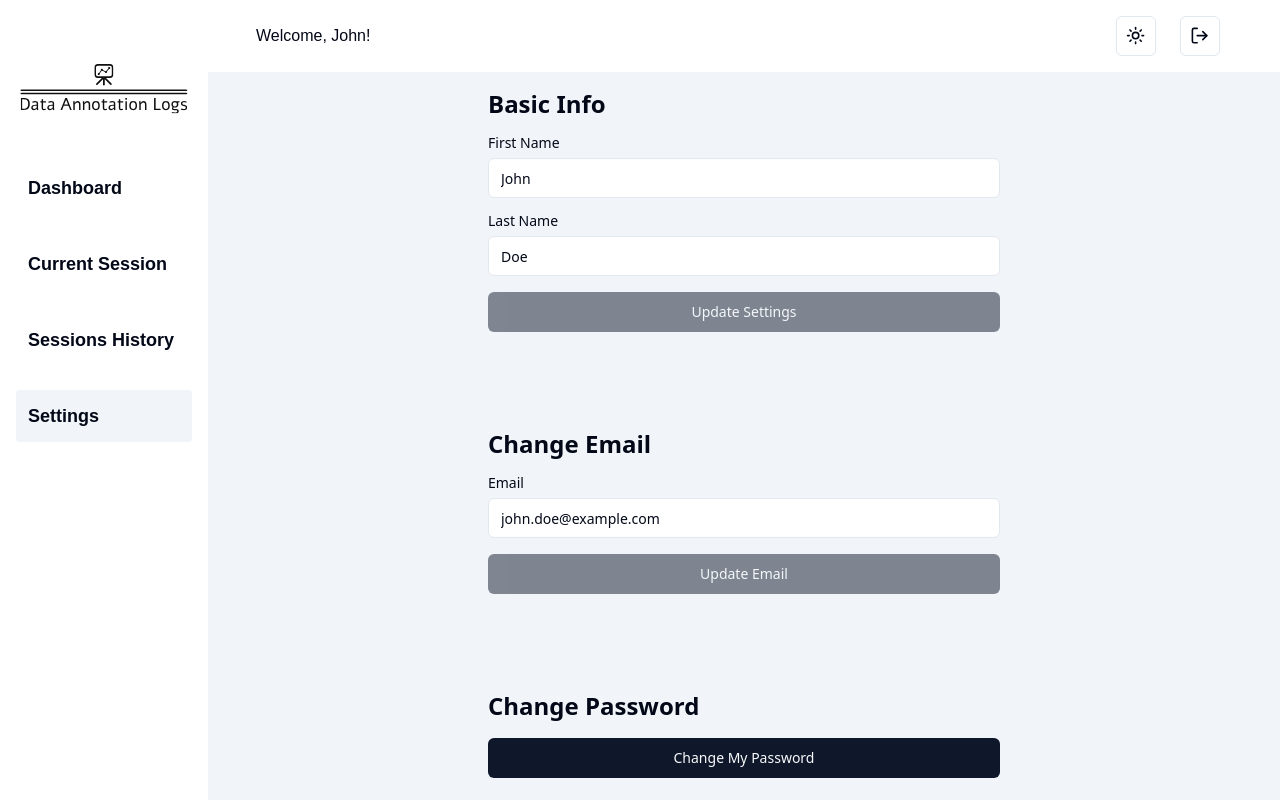
Test case: Password Reset Flow › Initiate Password Reset › shows error on reset initiation failure
Click the button with test id "initiate-password-reset-button".
click(744, 758)  # box [488,738,1000,778]
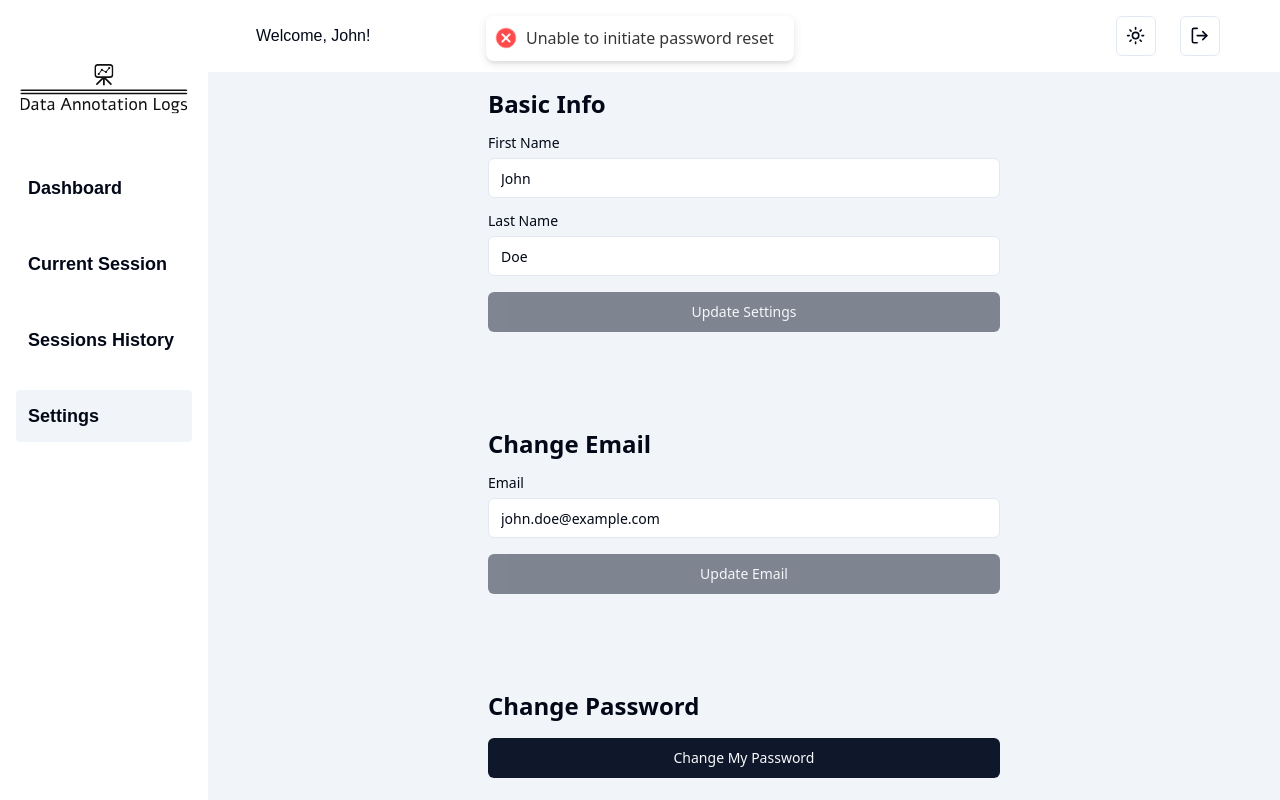
Expected: the message with class "react-hot-toast" reads "Unable to initiate password reset", [526,27,774,49]
